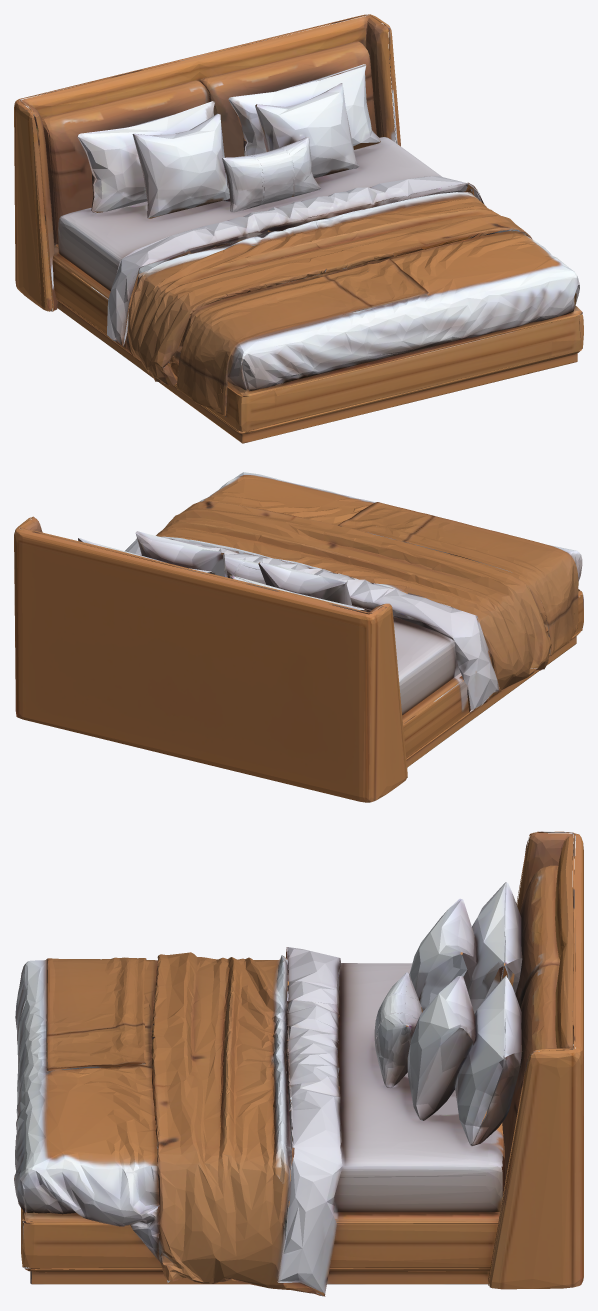
File: edited_mesh.glb
The picture shows the model from 3 angles, top to bottom: view 1: azimuth 30°, elevation 25°; view 2: azimuth 150°, elevation 25°; view 3: azimuth 270°, elevation 25°; orthographic projection. The views are drawn at different scales.
Visible parts, largest first — view 1: solid_001_wire; view 2: solid_001_wire; view 3: solid_001_wire.
Boxes of the visible parts, <box> form: solid_001_wire: <box>14,14,583,443</box>; solid_001_wire: <box>14,472,583,802</box>; solid_001_wire: <box>14,831,583,1296</box>.
Size of the model in its own units: 2 by 0.9449 by 1.97.
1 material, 1 textured.
